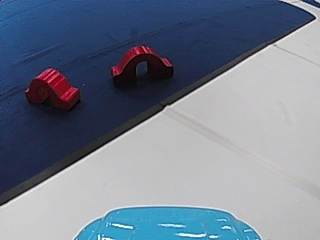bridge: (108, 41, 176, 87), (22, 65, 83, 114)
